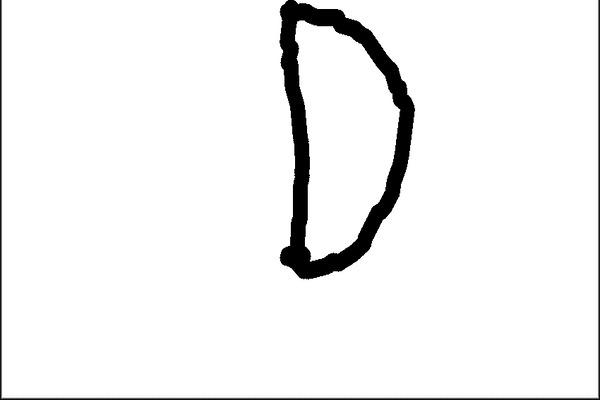D: (264, 0, 433, 286)
